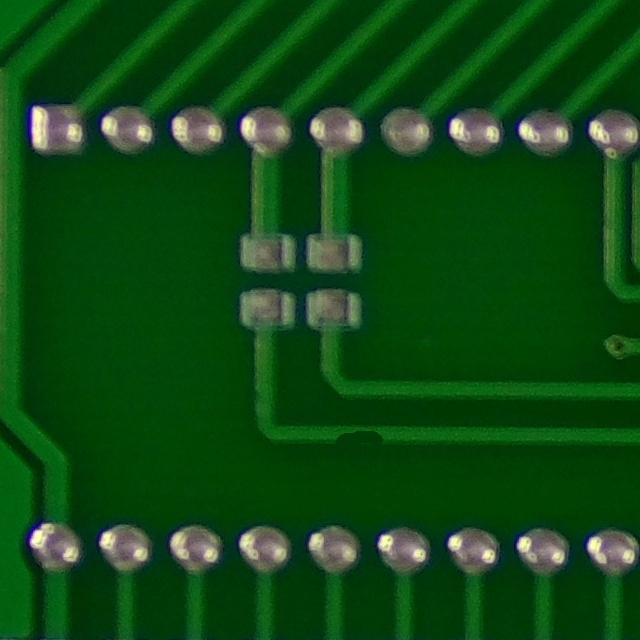mouse_bite: (321, 411, 393, 464)
